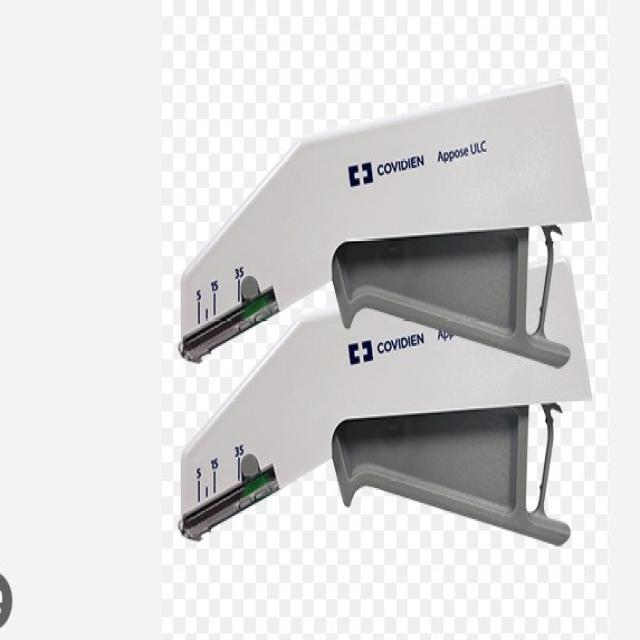Skin Stapler: (178, 252, 588, 552), (178, 77, 571, 369)
